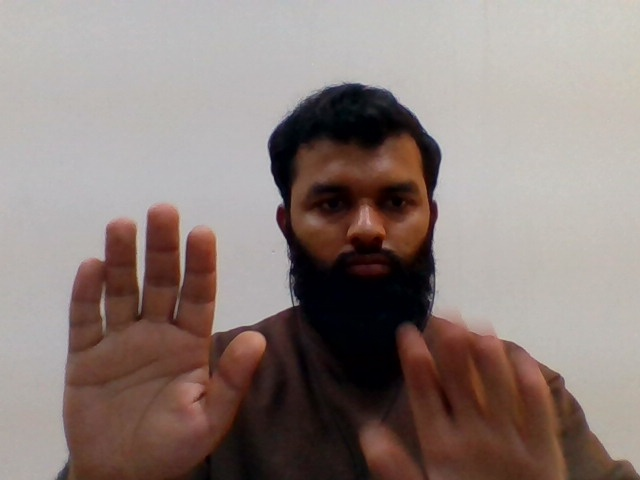Hello: (39, 197, 272, 480)
